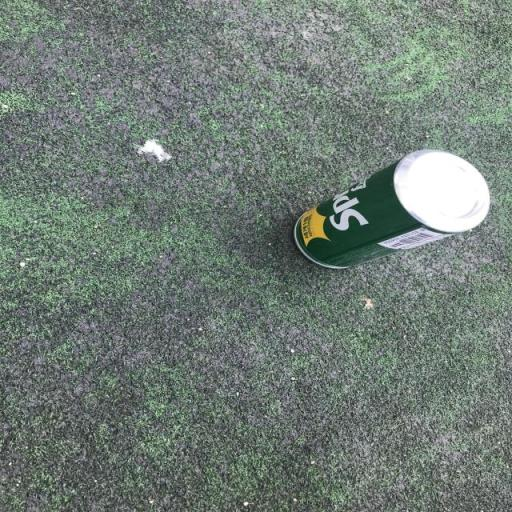metal: (266, 131, 504, 295)
